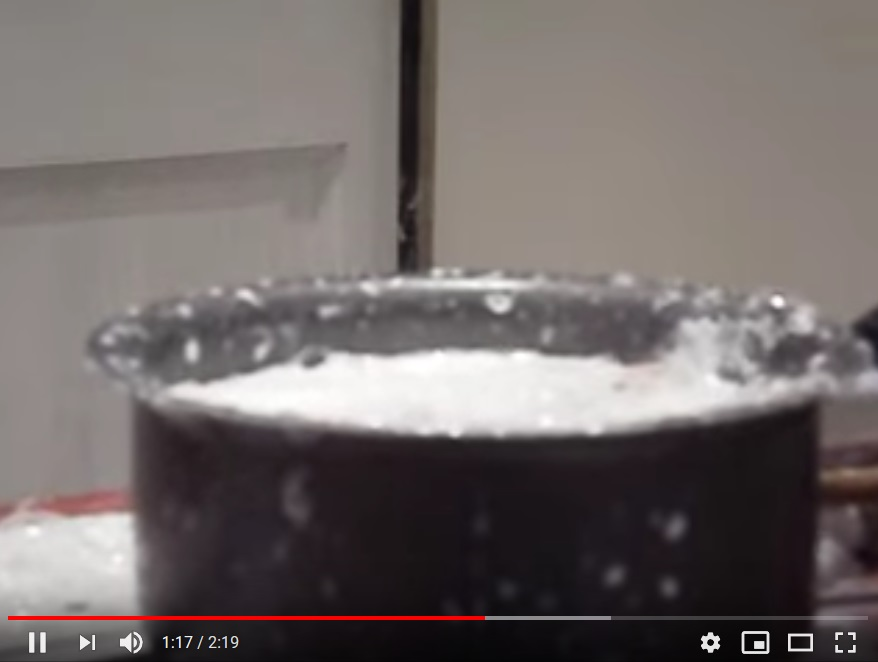Boiled: (62, 254, 856, 568)
